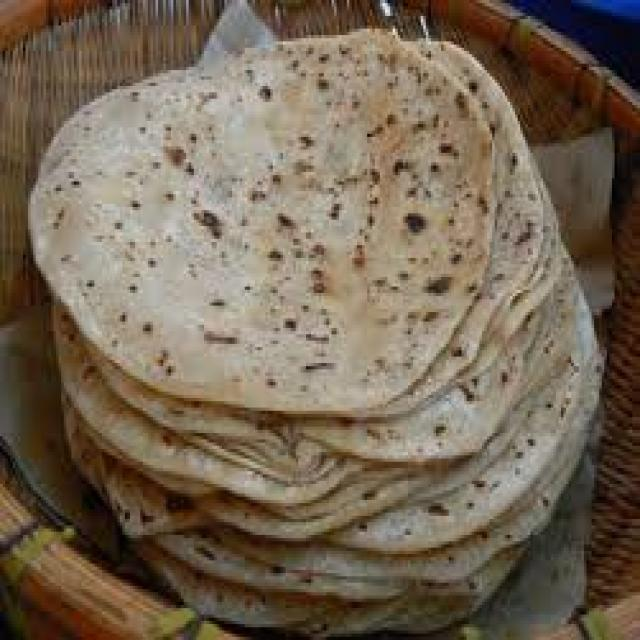ROTI: (22, 39, 591, 624)
